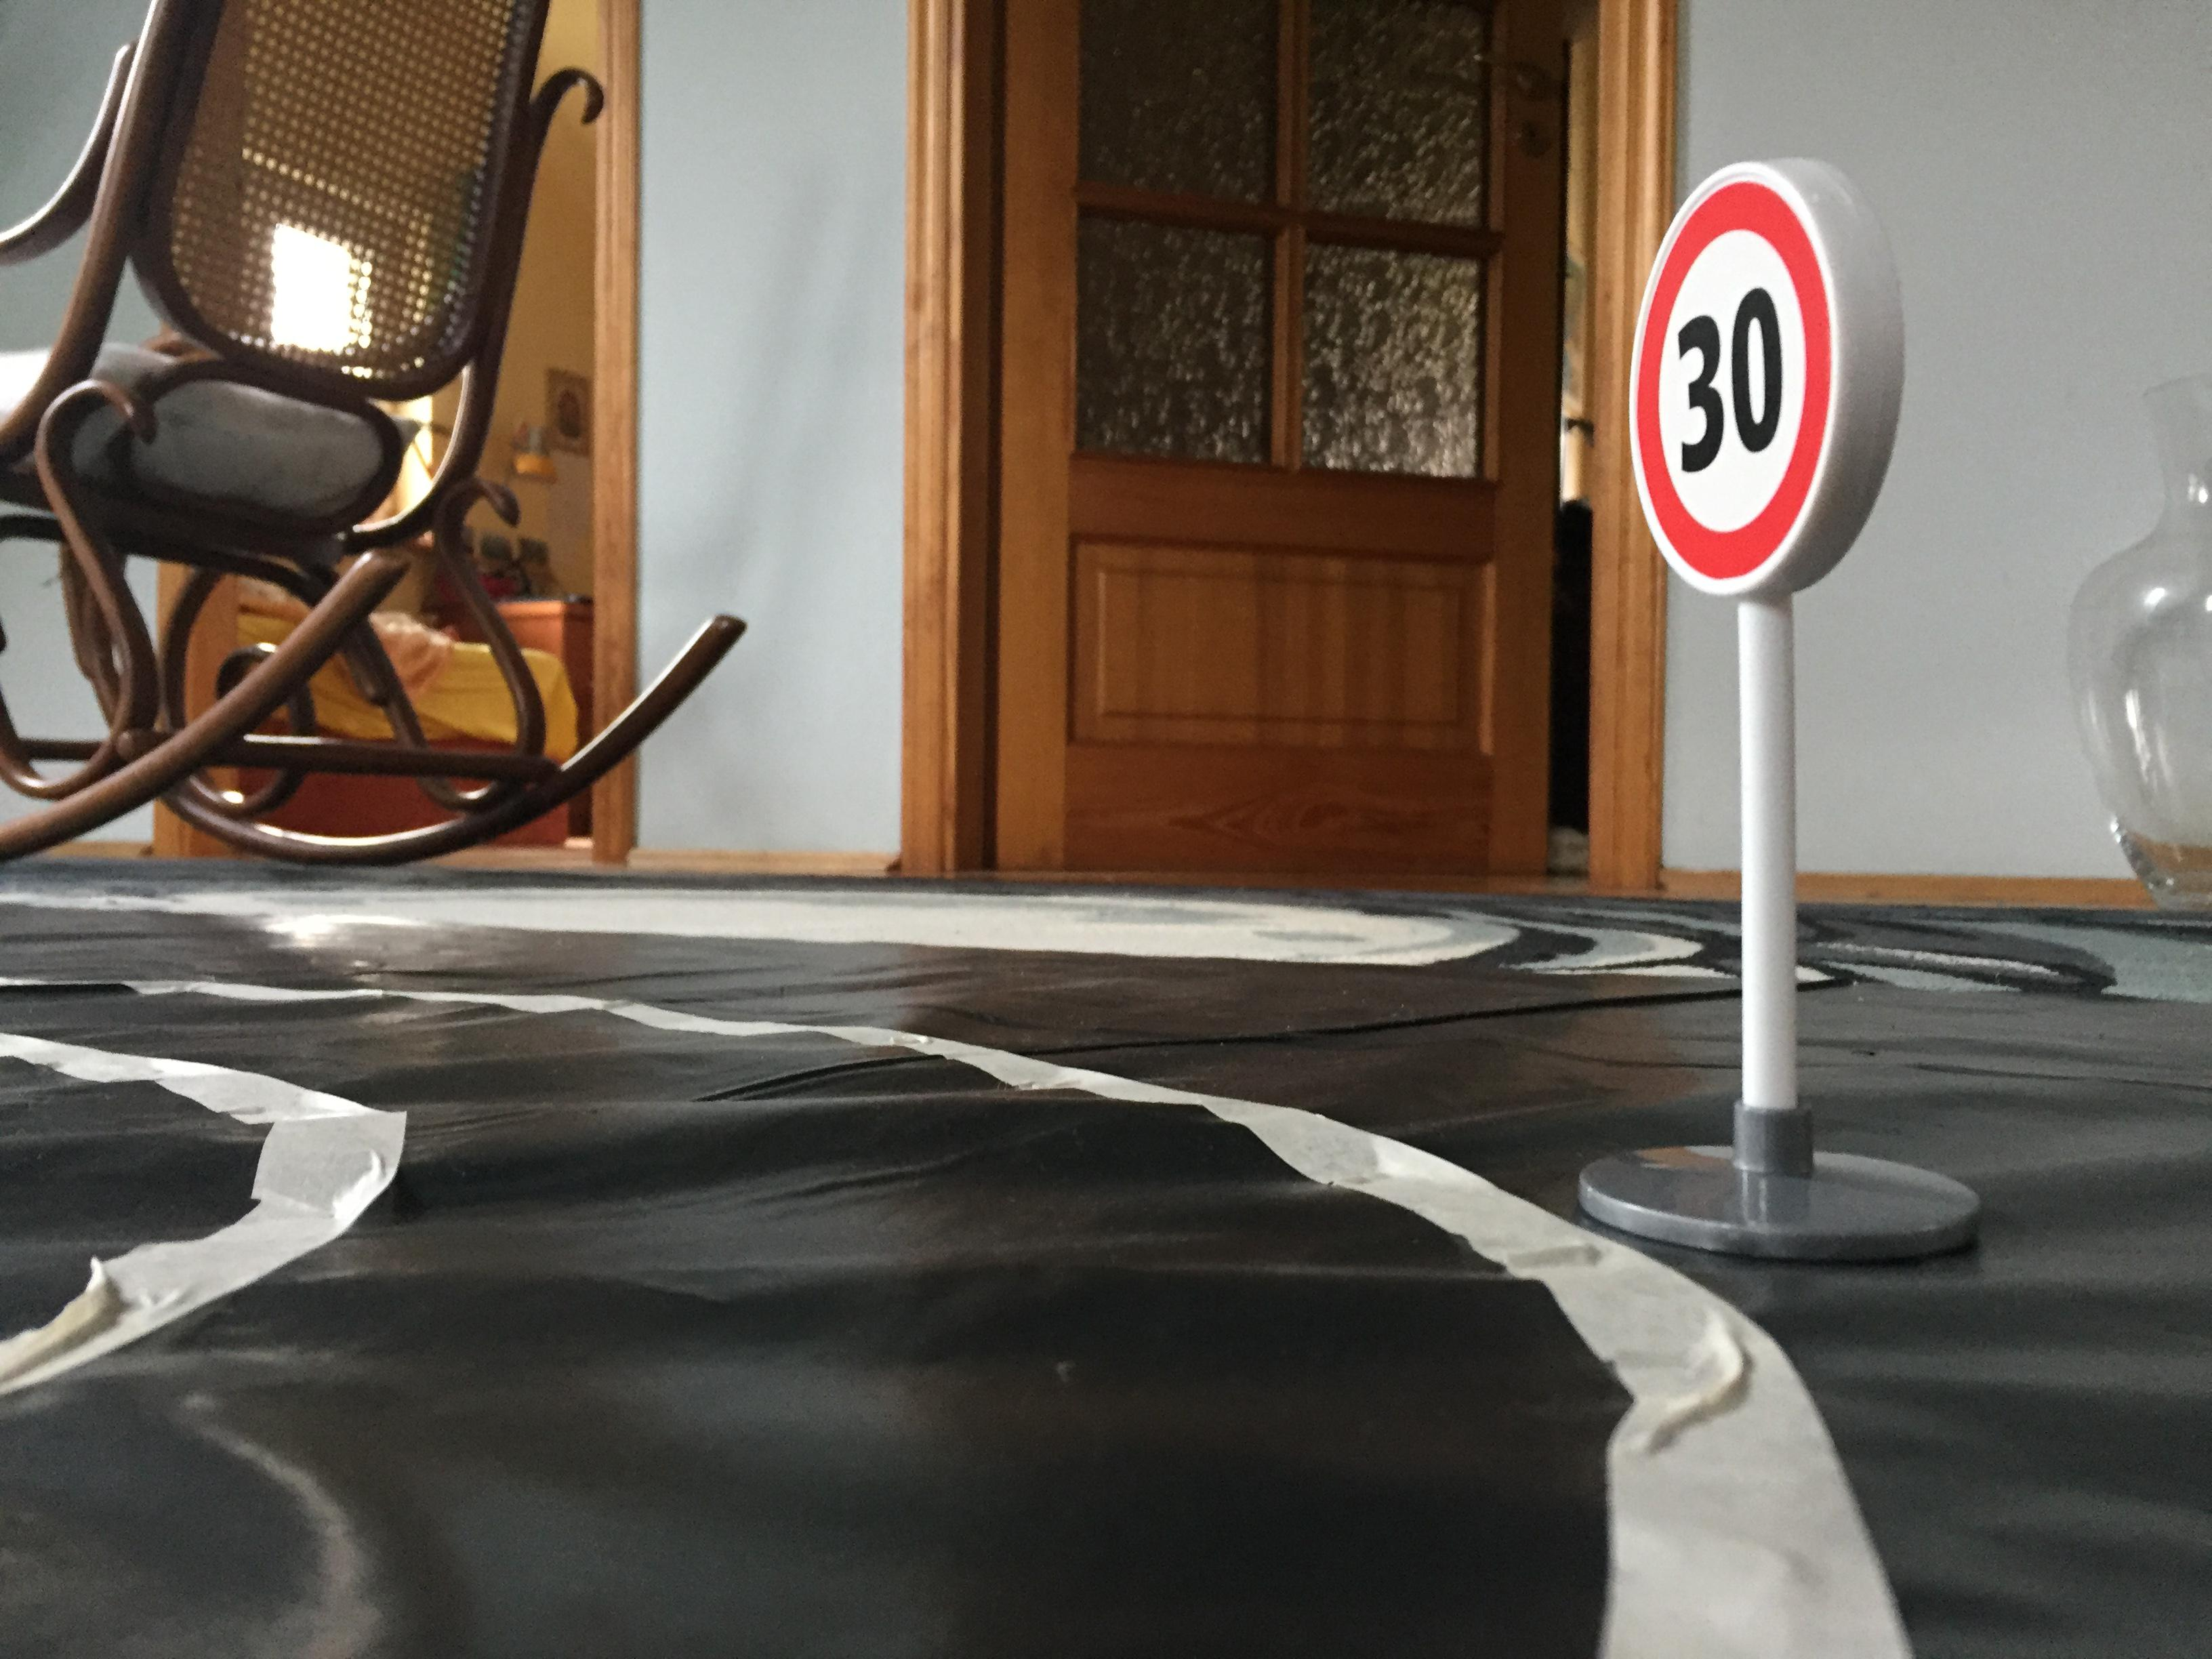speed: (1608, 146, 1916, 606)
